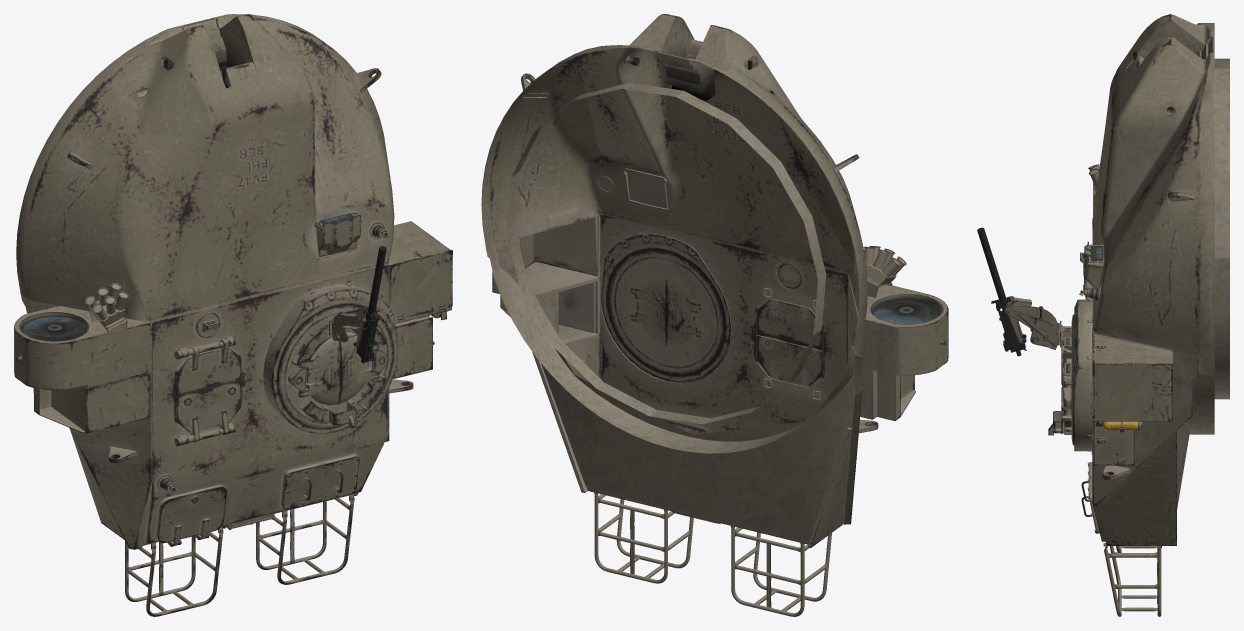
The model's file is Turret_01.glb.
3 views of the same model, side by side, from view 1: azimuth 30°, elevation 25°; view 2: azimuth 150°, elevation 25°; view 3: azimuth 270°, elevation 25° (orthographic). The views are drawn at different scales.
Parts seen in each view (by area): view 1: set_0_group_0, set_0_group_1; view 2: set_0_group_0, set_0_group_1; view 3: set_0_group_0, set_0_group_1.
Part boxes in pixels (x1,y1,x2,y2): set_0_group_0: (14, 14, 452, 549); set_0_group_1: (16, 68, 447, 616); set_0_group_0: (481, 14, 948, 547); set_0_group_1: (521, 73, 946, 616); set_0_group_0: (1062, 14, 1229, 547); set_0_group_1: (977, 164, 1195, 616).
Bounding box in the file's own units: 3.16 × 4.04 × 1.7.
2 materials, 2 textured.
